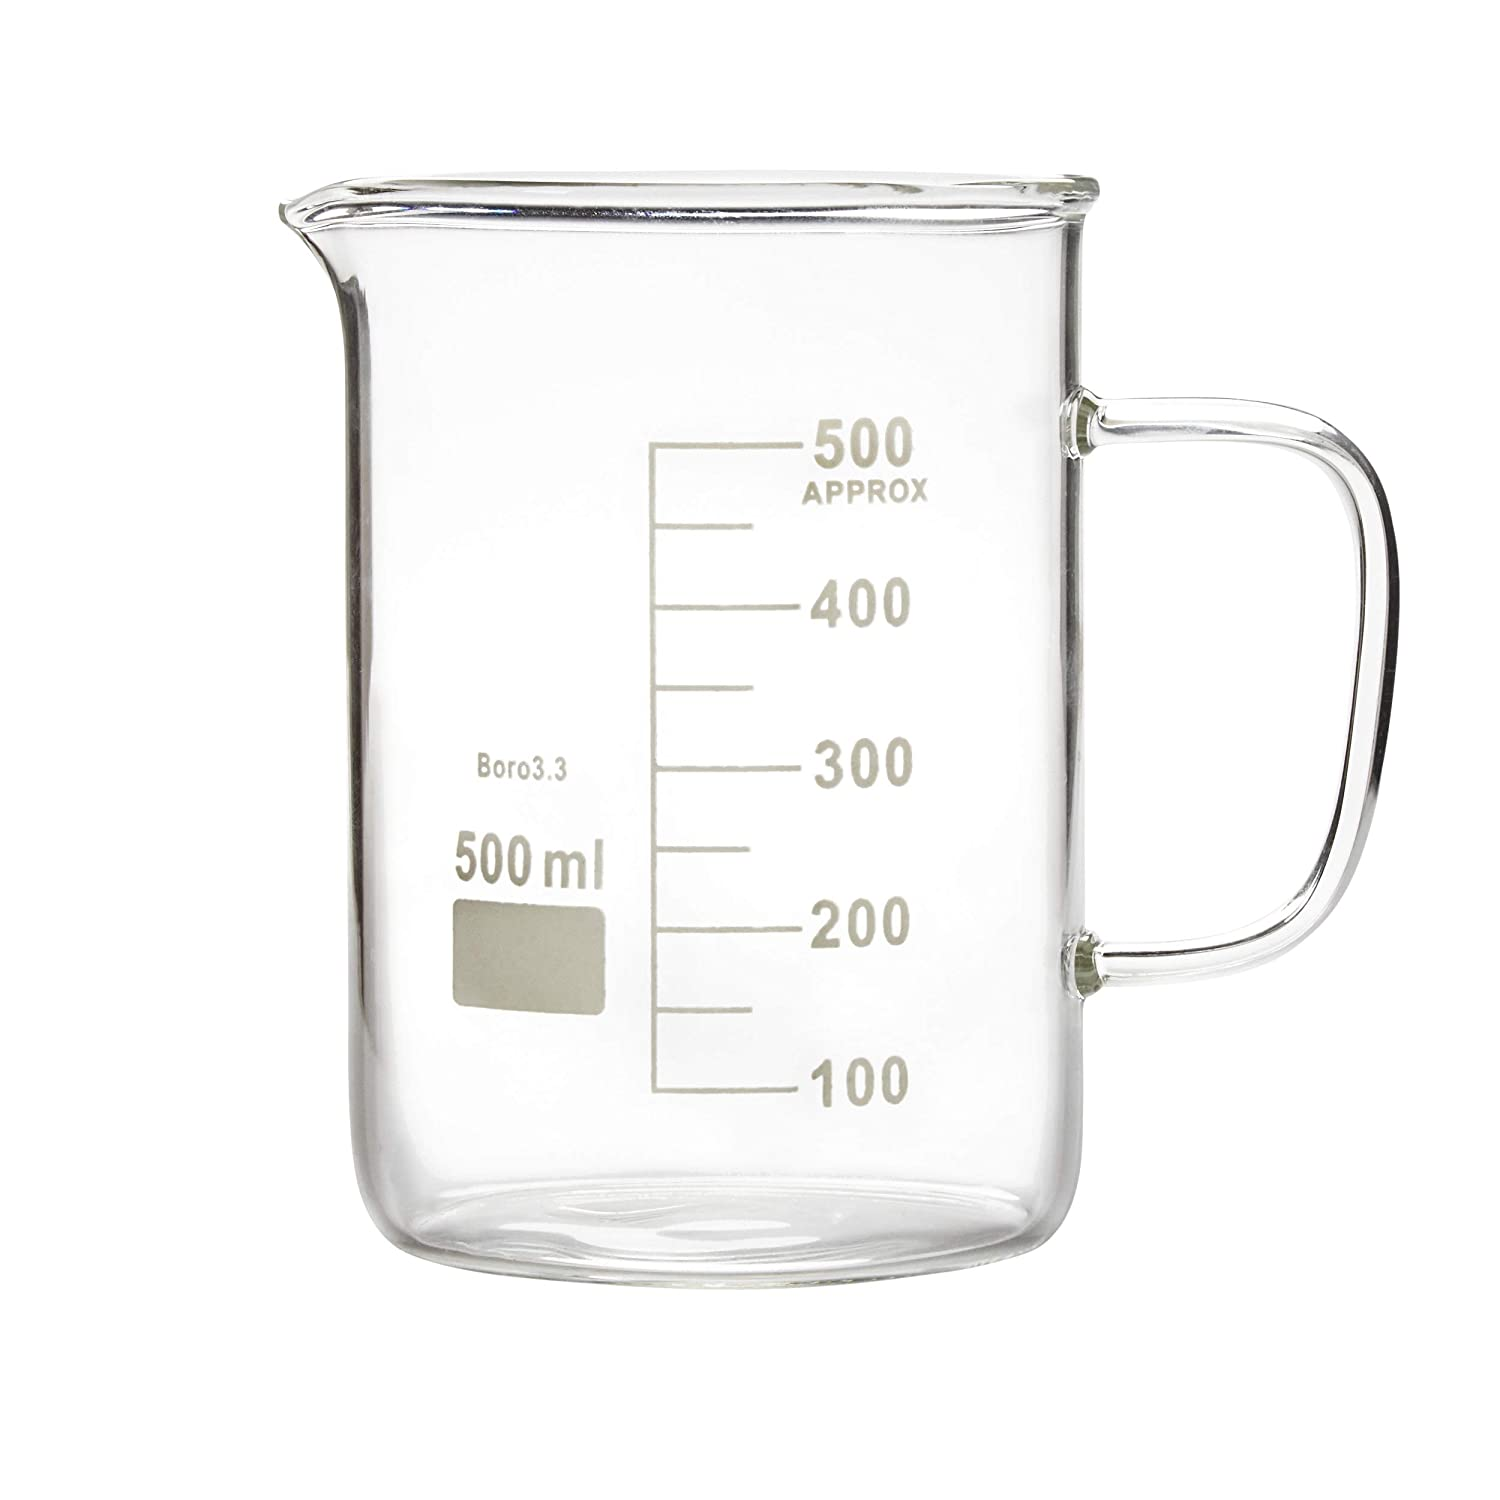glass: (266, 179, 1412, 1297)
